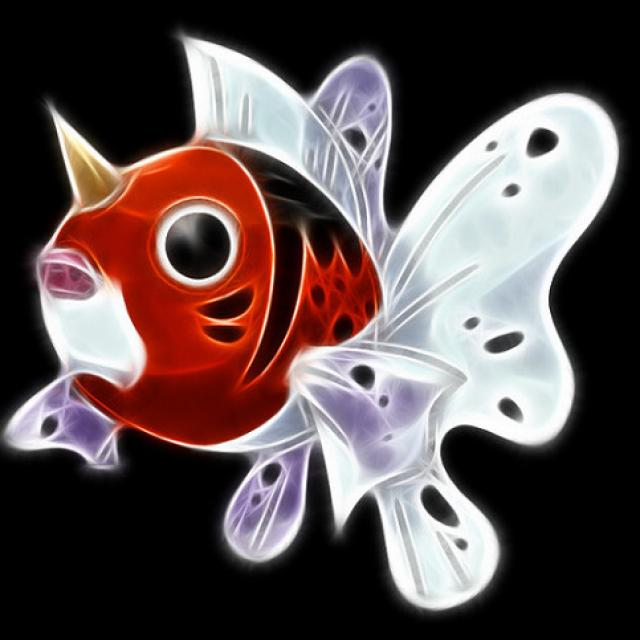Seaking: (27, 114, 418, 470)
